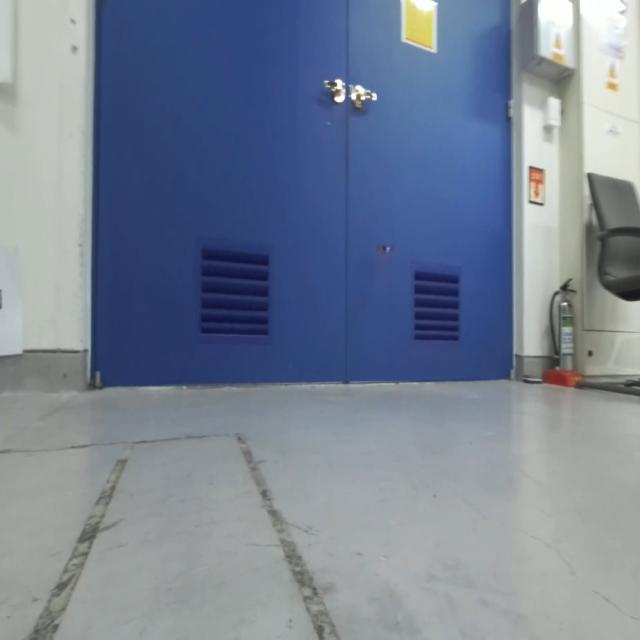crazyflie: (370, 235, 404, 267)
